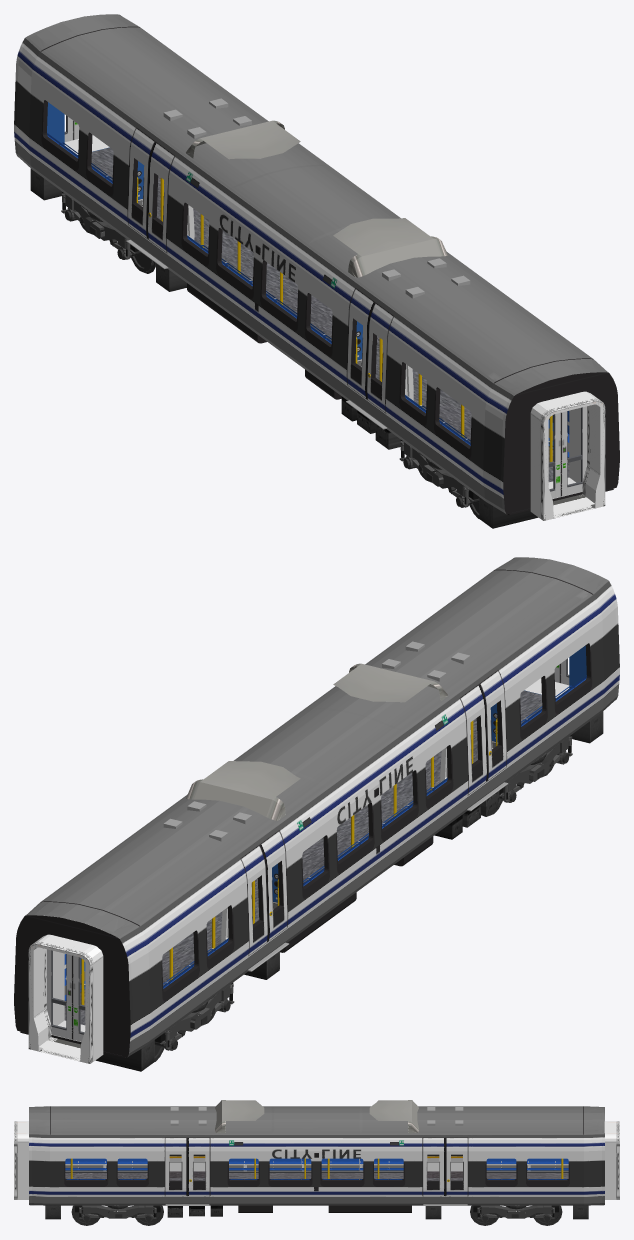
File: module_city_trailer.obj
3 views of the same model, one above another, from view 1: azimuth 30°, elevation 25°; view 2: azimuth 150°, elevation 25°; view 3: azimuth 270°, elevation 25° (orthographic). The views are drawn at different scales.
Visible parts, largest first — view 1: m_side, m_jibung, m_aircon, m_mak, m_backout, m_floor, m_habu, m_dt71, m_door_RB, m_door_RF, m_interiors, m_backin (+3 smaller); view 2: m_side, m_jibung, m_aircon, m_mak, m_backout, m_floor, m_habu, m_door_RB, m_door_RF, m_dt71, m_interiors, m_backin (+3 smaller); view 3: m_side, m_jibung, m_oscarchair, m_dt71, m_aircon, m_mak, m_floor, m_habu, m_door_LF, m_door_LB, m_heater, m_door_RF_in (+3 smaller).
Boxes of the visible parts, left/top/right/bottom form: m_side: left=14, top=15, right=619, bottom=514; m_jibung: left=25, top=14, right=608, bottom=395; m_aircon: left=163, top=98, right=470, bottom=298; m_mak: left=64, top=131, right=605, bottom=520; m_backout: left=507, top=372, right=615, bottom=513; m_floor: left=91, top=147, right=569, bottom=482; m_habu: left=30, top=168, right=613, bottom=528; m_dt71: left=61, top=192, right=479, bottom=518; m_door_RB: left=128, top=144, right=369, bottom=412; m_door_RF: left=147, top=158, right=387, bottom=426; m_interiors: left=64, top=115, right=586, bottom=498; m_backin: left=47, top=102, right=587, bottom=498; m_side: left=14, top=558, right=619, bottom=1057; m_jibung: left=25, top=557, right=608, bottom=938; m_aircon: left=163, top=641, right=470, bottom=841; m_mak: left=28, top=674, right=569, bottom=1063; m_backout: left=18, top=915, right=126, bottom=1056; m_floor: left=64, top=690, right=542, bottom=1025; m_habu: left=20, top=711, right=603, bottom=1071; m_door_RB: left=247, top=700, right=487, bottom=968; m_door_RF: left=265, top=686, right=506, bottom=954; m_dt71: left=154, top=735, right=572, bottom=1061; m_interiors: left=47, top=658, right=569, bottom=1041; m_backin: left=46, top=645, right=586, bottom=1041; m_side: left=29, top=1106, right=604, bottom=1205; m_jibung: left=29, top=1106, right=604, bottom=1134; m_oscarchair: left=65, top=1158, right=568, bottom=1179; m_dt71: left=71, top=1205, right=562, bottom=1225; m_aircon: left=170, top=1100, right=463, bottom=1133; m_mak: left=14, top=1121, right=619, bottom=1199; m_floor: left=65, top=1171, right=568, bottom=1180; m_habu: left=30, top=1205, right=603, bottom=1219; m_door_LF: left=165, top=1147, right=445, bottom=1203; m_door_LB: left=187, top=1147, right=467, bottom=1203; m_heater: left=65, top=1162, right=568, bottom=1172; m_door_RF_in: left=169, top=1154, right=439, bottom=1170.
Size of the model in its own units: 2.88 by 3.97 by 20.53.
26 materials, 26 textured.
